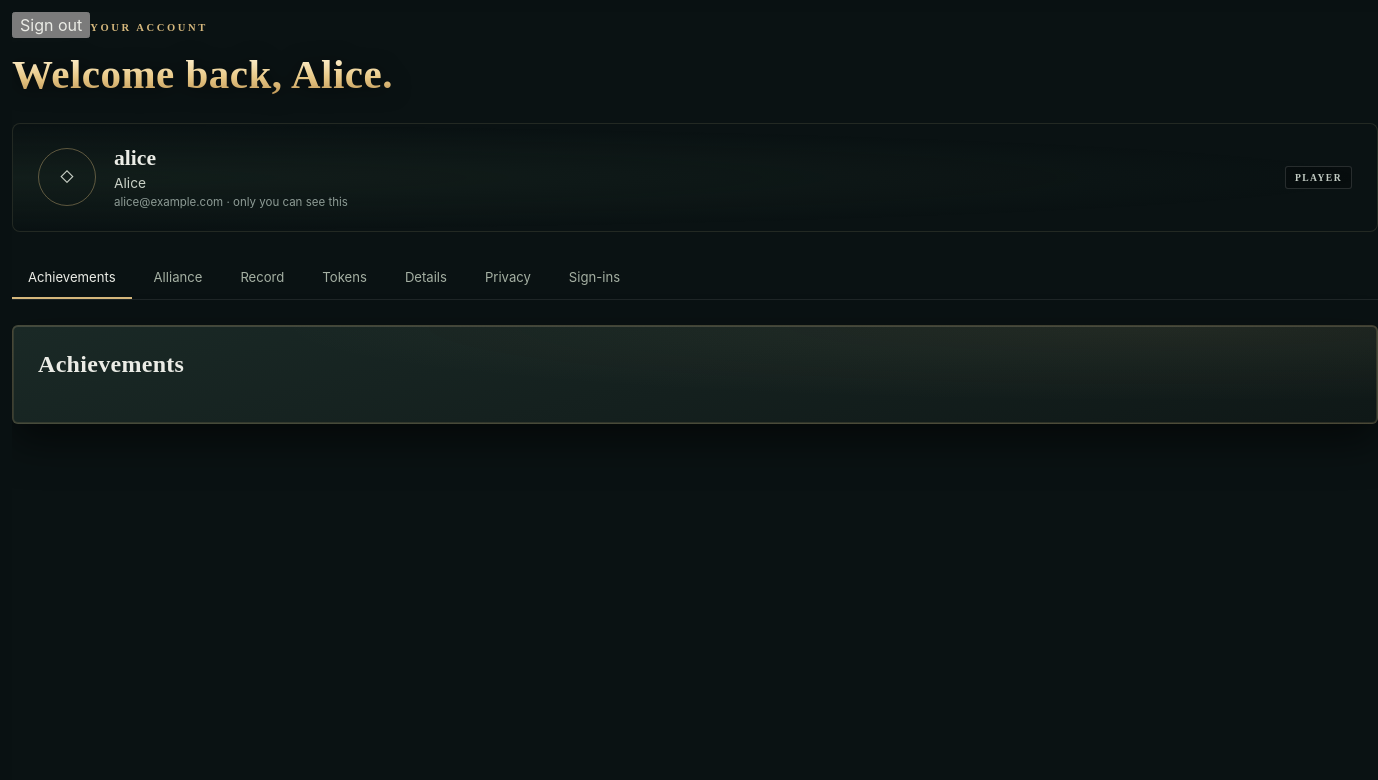
Scenario: signing out › shows the account the browser holds now instead of signing it out
Click the tab "Sign-ins": [595, 278] box [553,257,636,299]
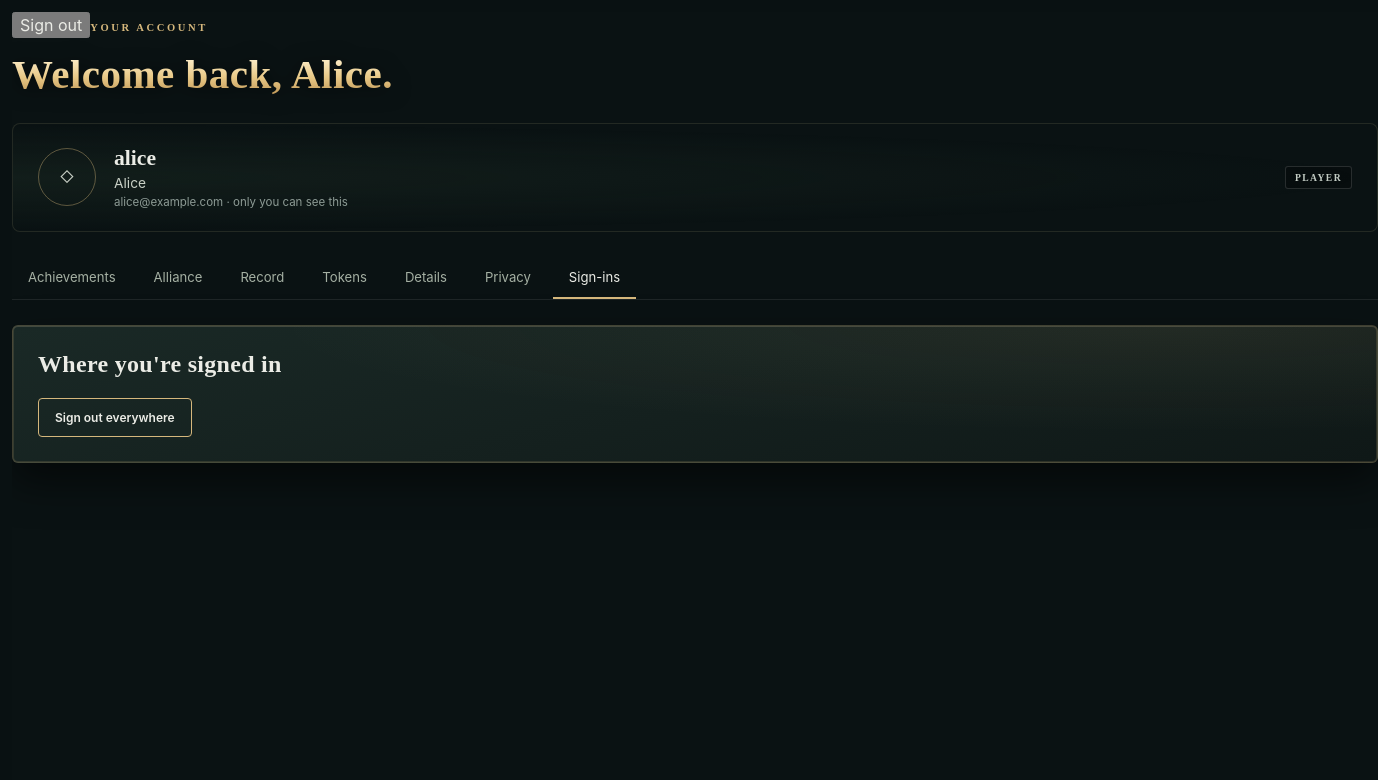
Click the button "Sign out everywhere": [115, 417] box [38,398,192,437]
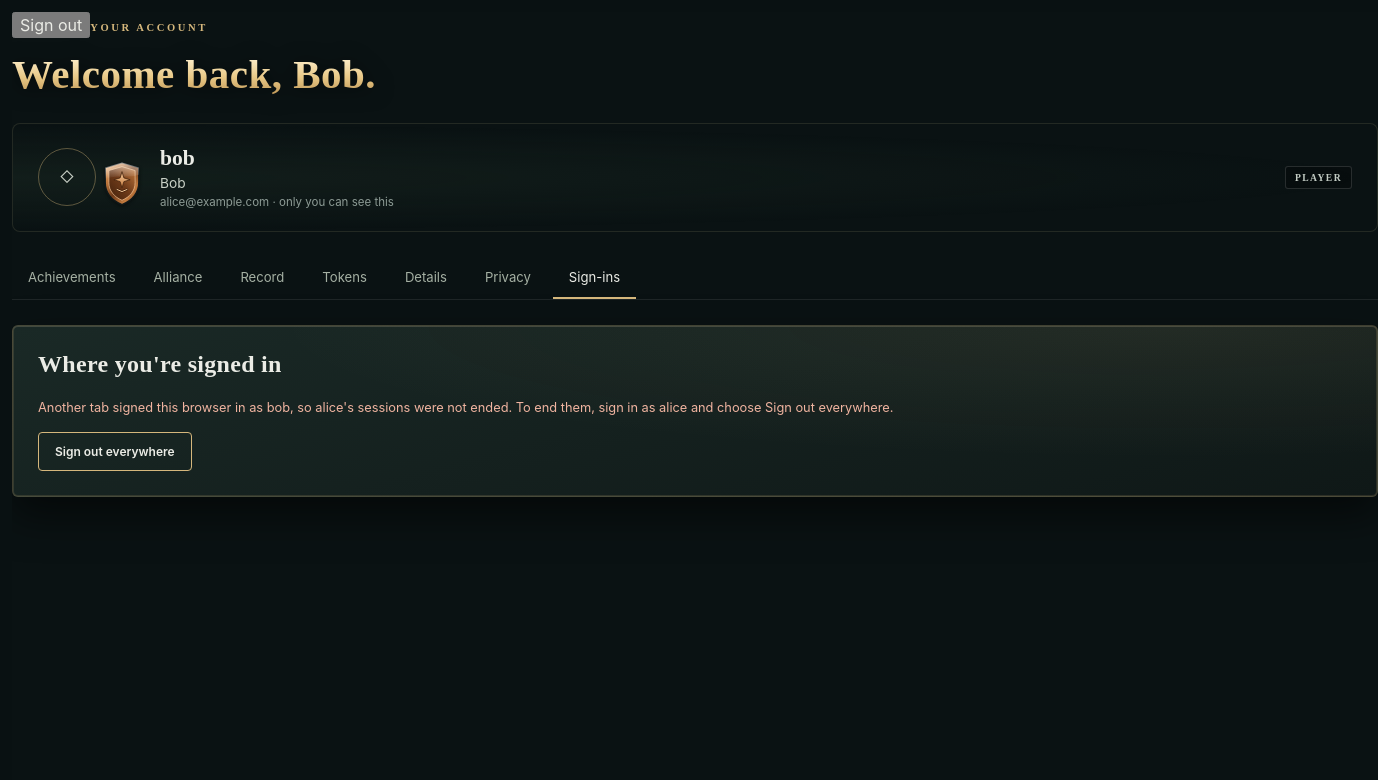
Expected: the message shows "so alice's sessions were not ended", [38,400,894,415]
Click the tab "Details": [426, 278] box [389,257,463,299]
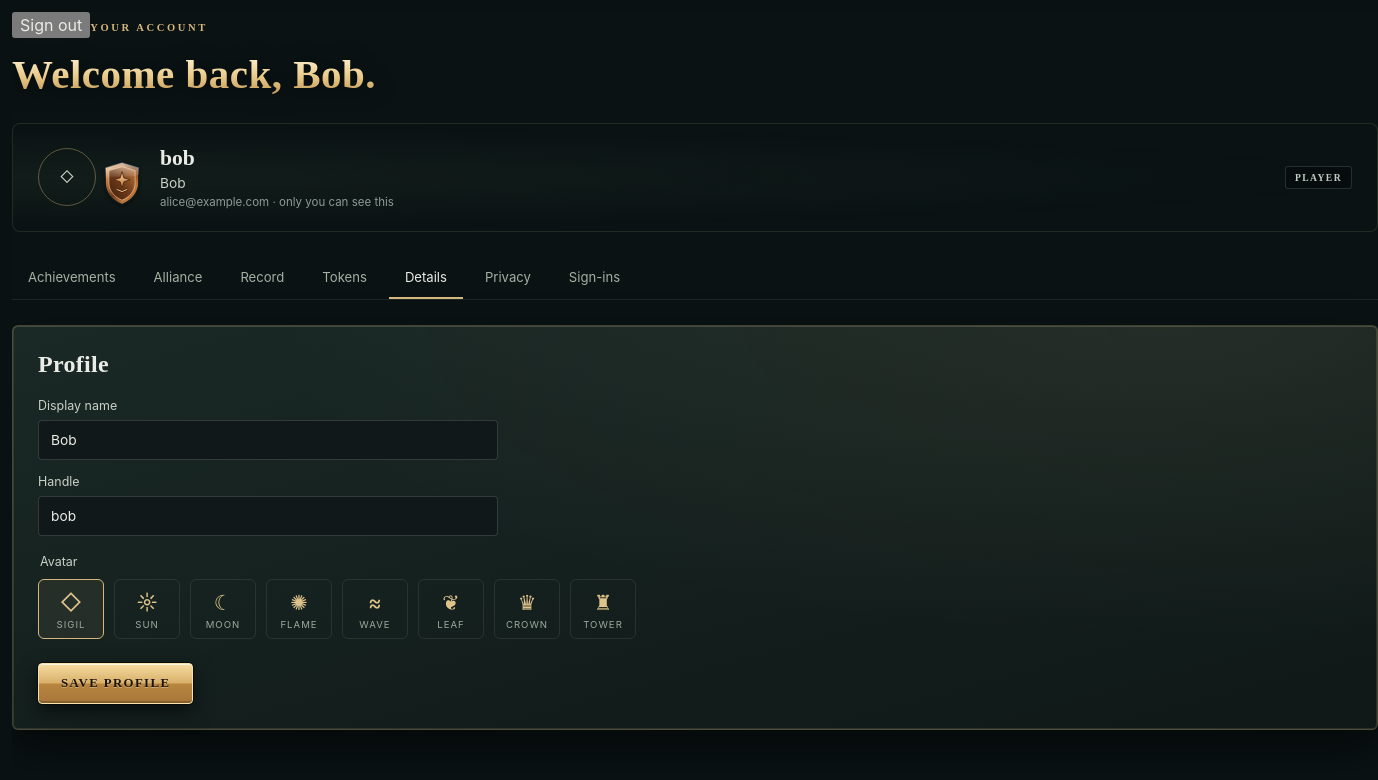
Expected: the field labelled "Display name" holds "Bob", [38,420,498,460]
